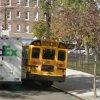Bus: (18, 31, 70, 86)
